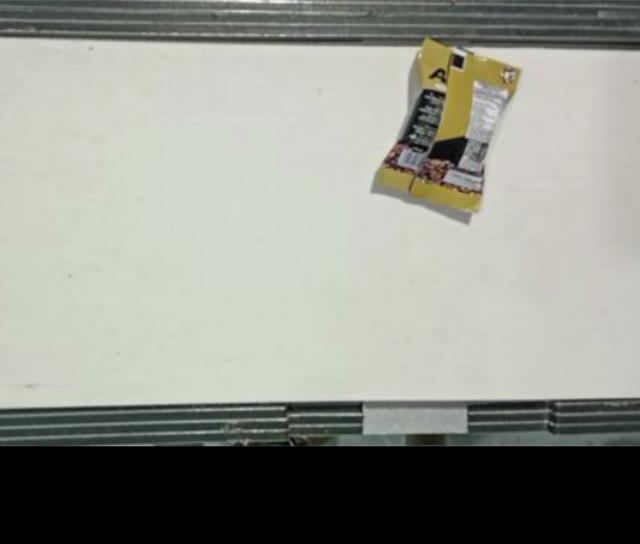Plastik: (373, 37, 522, 215)
